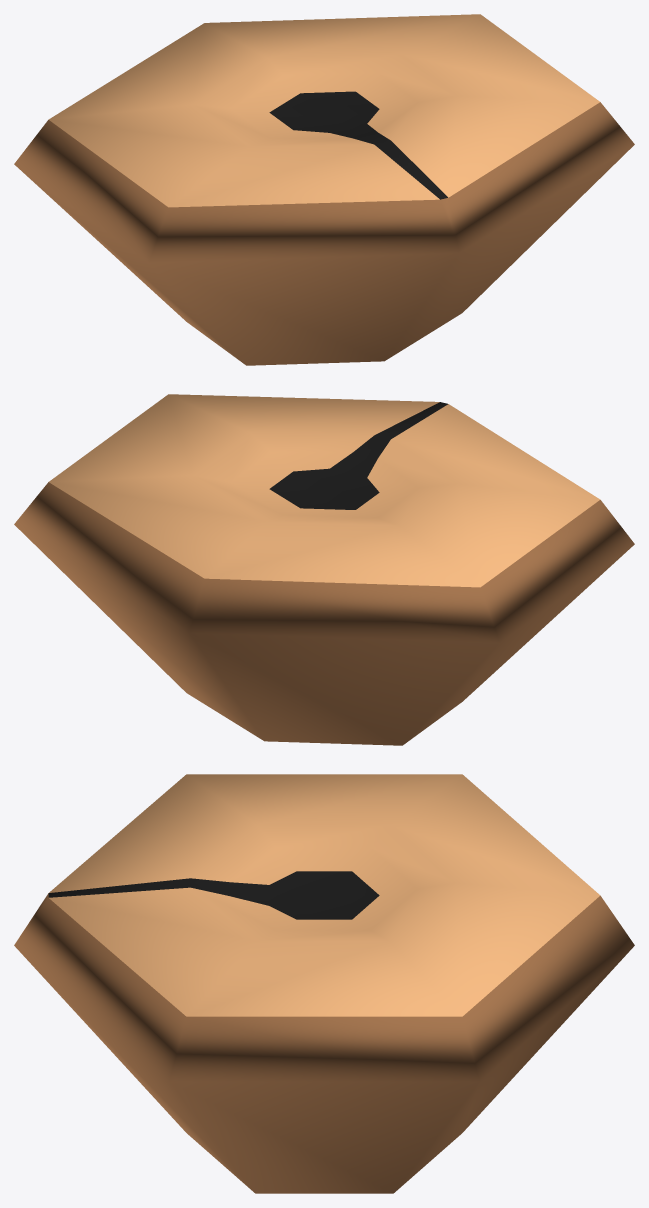
File: Nautileye.fbx
3 renders of one model, top to bottom at view 1: azimuth 30°, elevation 25°; view 2: azimuth 150°, elevation 25°; view 3: azimuth 270°, elevation 25°, orthographic. The views are drawn at different scales.
Visible parts, largest first — view 1: Nautileye - Haskipend; view 2: Nautileye - Haskipend; view 3: Nautileye - Haskipend.
Boxes of the visible parts, <box> form: Nautileye - Haskipend: <box>14,14,634,365</box>; Nautileye - Haskipend: <box>14,394,634,745</box>; Nautileye - Haskipend: <box>14,774,634,1193</box>.
Size of the model in its own units: 34.06 by 14.56 by 32.77.
